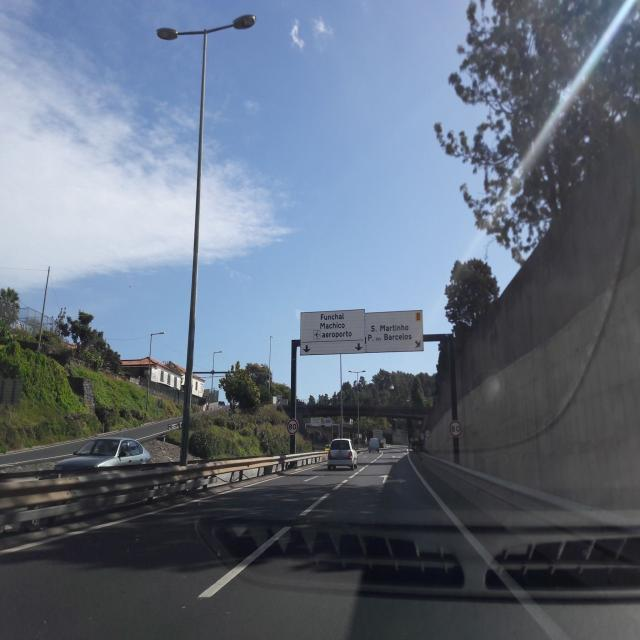car: (53, 435, 152, 477), (326, 438, 358, 472), (368, 437, 382, 453)
